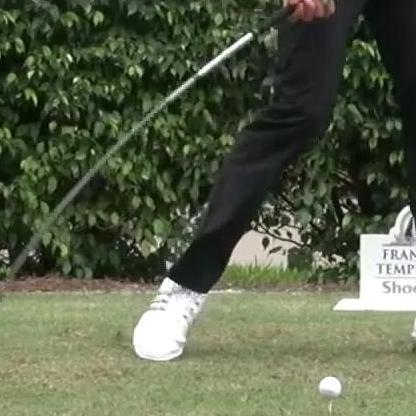golfball: (315, 373, 342, 398)
